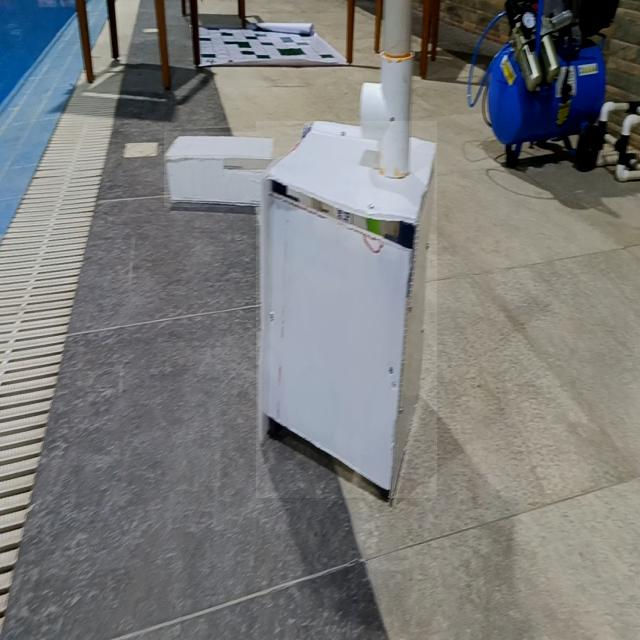Cube: (256, 121, 437, 498)
Cuboid: (164, 132, 274, 207)
